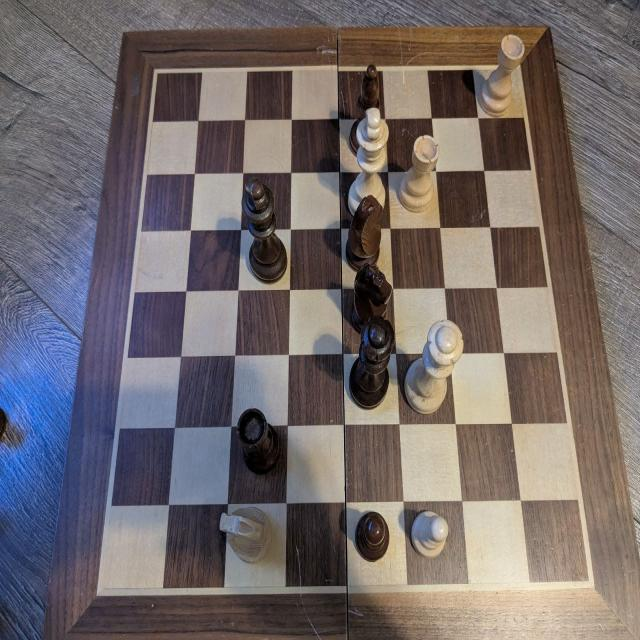black_bishop: (349, 67, 381, 153)
black_king: (242, 175, 287, 284)
black_knight: (346, 195, 384, 271), (351, 264, 392, 334)
black_pawn: (354, 511, 390, 562)
black_queen: (349, 317, 395, 406)
black_rook: (237, 408, 281, 474)
white_king: (348, 106, 387, 213)
white_knight: (220, 508, 272, 563)
white_pawn: (411, 508, 448, 559)
white_queen: (404, 317, 465, 413)
white_rook: (478, 33, 524, 115), (398, 134, 438, 211)
